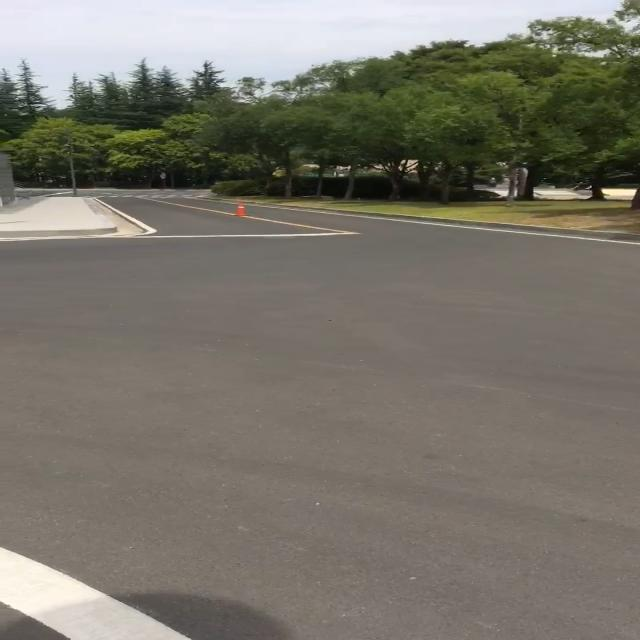obstacle: (231, 202, 248, 218)
road: (0, 192, 640, 640)
sidewalk: (0, 195, 151, 244)
